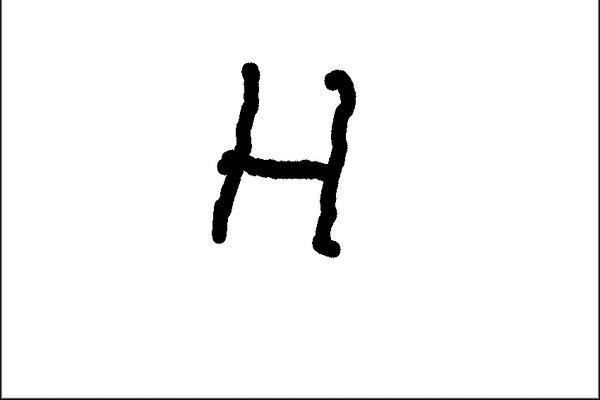H: (206, 50, 360, 267)
